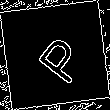P_NW: (24, 25, 86, 85)
